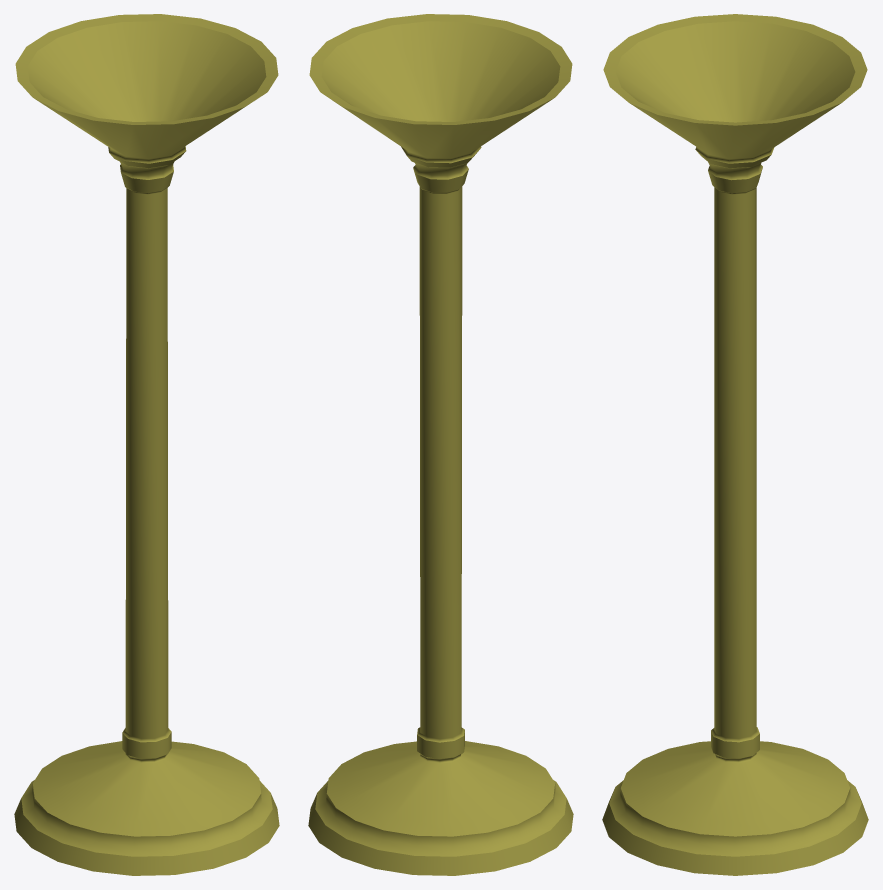
The model's file is Lamp_4.fbx.
3 views of the same model, side by side, from view 1: azimuth 30°, elevation 25°; view 2: azimuth 150°, elevation 25°; view 3: azimuth 270°, elevation 25° (orthographic).
Parts seen in each view (by area): view 1: Lamp_4; view 2: Lamp_4; view 3: Lamp_4.
Part boxes in pixels (x1,y1,x2,y2): Lamp_4: (14, 14, 279, 875); Lamp_4: (308, 14, 573, 875); Lamp_4: (602, 14, 868, 875).
Bounding box in the file's own units: 51.05 × 159 × 51.05.
